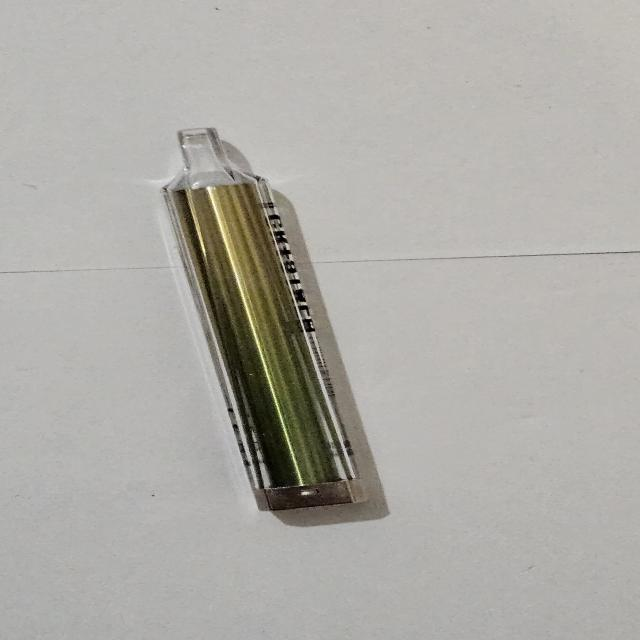Hazard: (158, 126, 384, 516)
